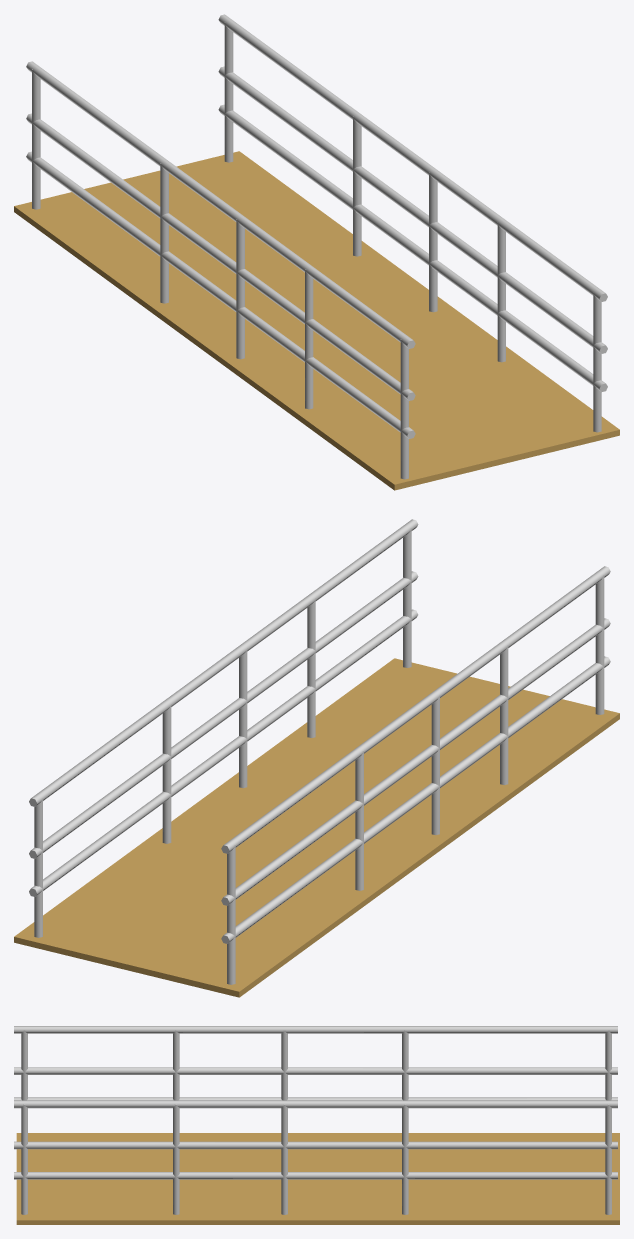
File: StairStraight.fbx
3 views of the same model, one above another, from view 1: azimuth 30°, elevation 25°; view 2: azimuth 150°, elevation 25°; view 3: azimuth 270°, elevation 25° (orthographic). The views are drawn at different scales.
Parts seen in each view (by area): view 1: pCylinder165; view 2: pCylinder165; view 3: pCylinder165.
Part boxes in pixels (left/top/right/bottom): pCylinder165: left=14, top=14, right=619, bottom=490; pCylinder165: left=14, top=519, right=619, bottom=997; pCylinder165: left=14, top=1026, right=619, bottom=1224.
Bounding box in the file's own units: 1.4 × 0.876 × 4.12.
